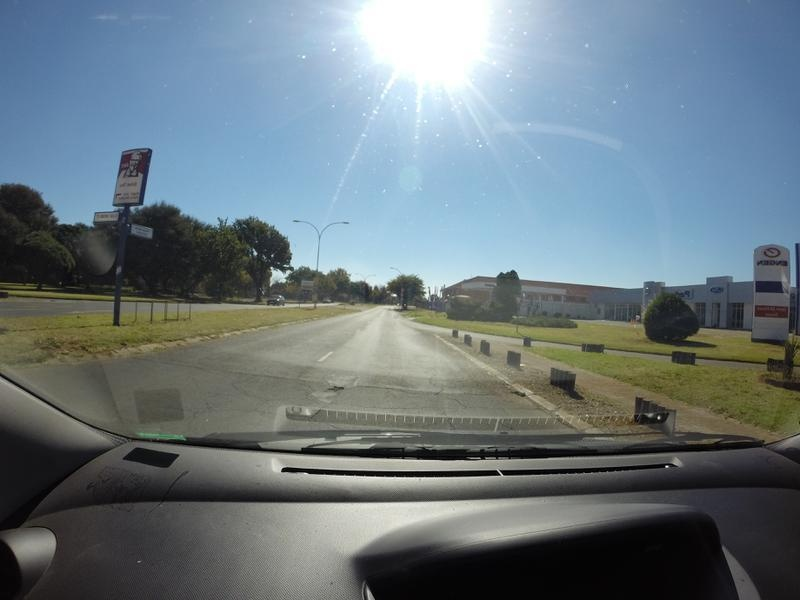pothole: (488, 385, 530, 402), (314, 382, 346, 398)
